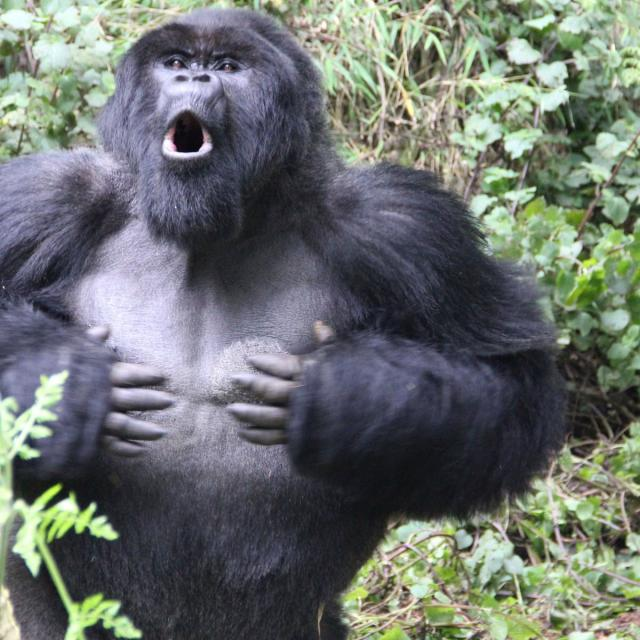Gorilla: (0, 7, 564, 640)
